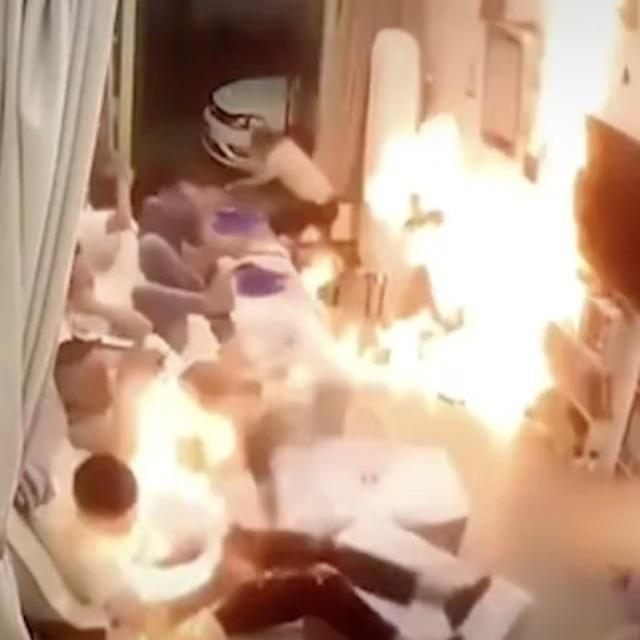smoke: (341, 5, 624, 402), (99, 378, 241, 604)
